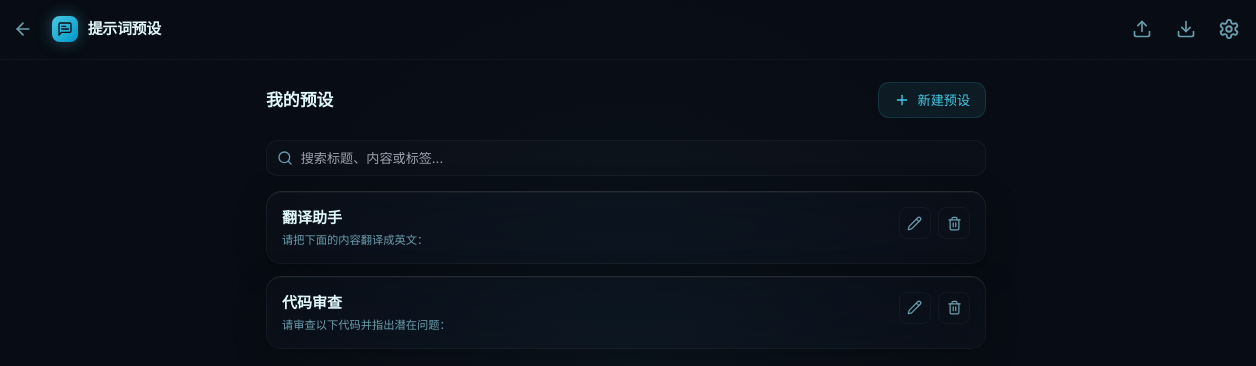
Test case: PromptPresetsPage delete › shows two-step confirm and deletes only after confirmation (Req 5.1/5.4)
Step 1. Click the button named "删除翻译助手" → point(954, 223), box [938, 207, 970, 239]
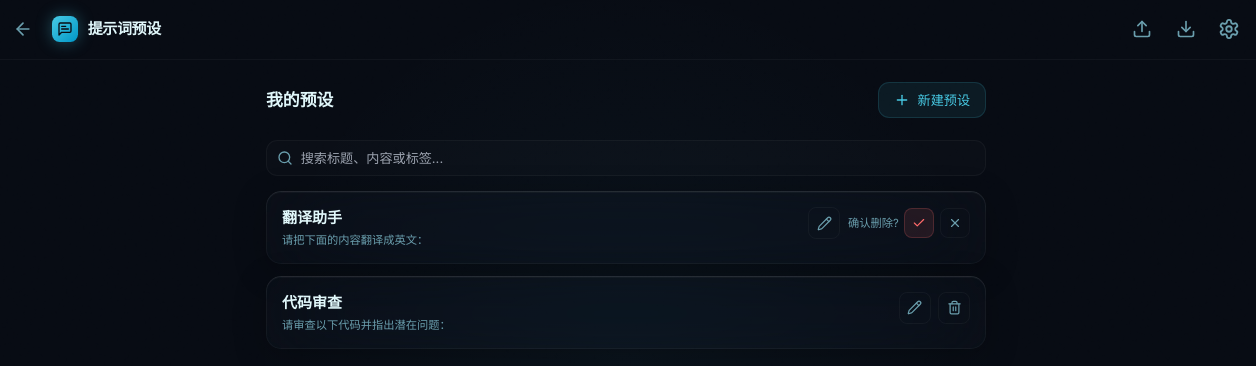
Expected: the text "确认删除?" is shown, [848, 216, 899, 230]
Step 2. Click the button named "确认删除" → point(919, 223), box [904, 208, 934, 238]
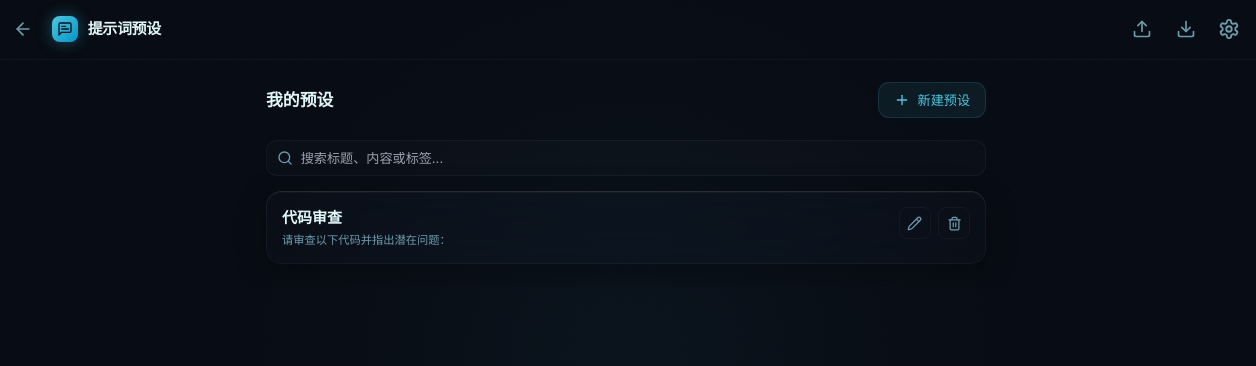
Expected: the heading "翻译助手" is gone
